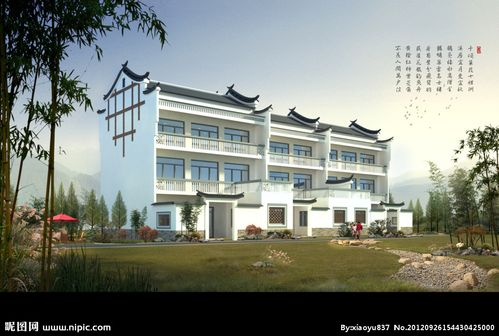buildings: (97, 72, 410, 235)
